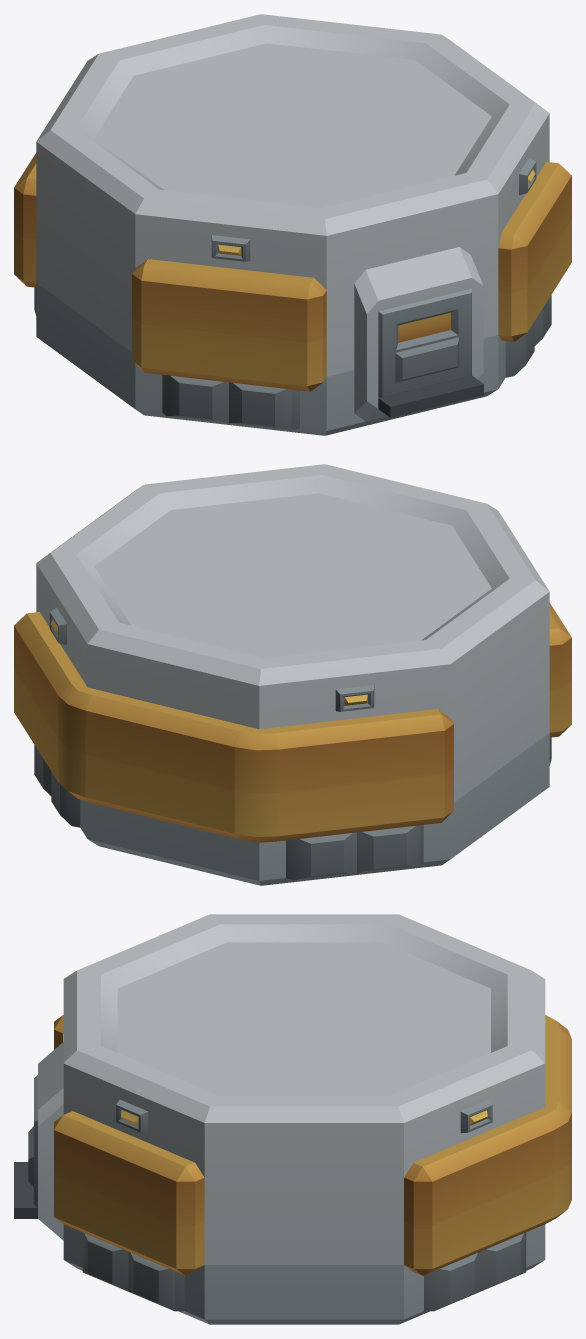
The model's file is space-basemodule-b.glb.
3 renders of one model, top to bottom at view 1: azimuth 30°, elevation 25°; view 2: azimuth 150°, elevation 25°; view 3: azimuth 270°, elevation 25°, orthographic.
Parts seen in each view (by area): view 1: basemodule_B; view 2: basemodule_B; view 3: basemodule_B.
Part boxes in pixels (box(x1,y1,x2,y2)): basemodule_B: box(14, 14, 571, 435); basemodule_B: box(14, 464, 571, 885); basemodule_B: box(14, 914, 571, 1324).
Bounding box in the file's own units: 2.08 × 1 × 2.32.
